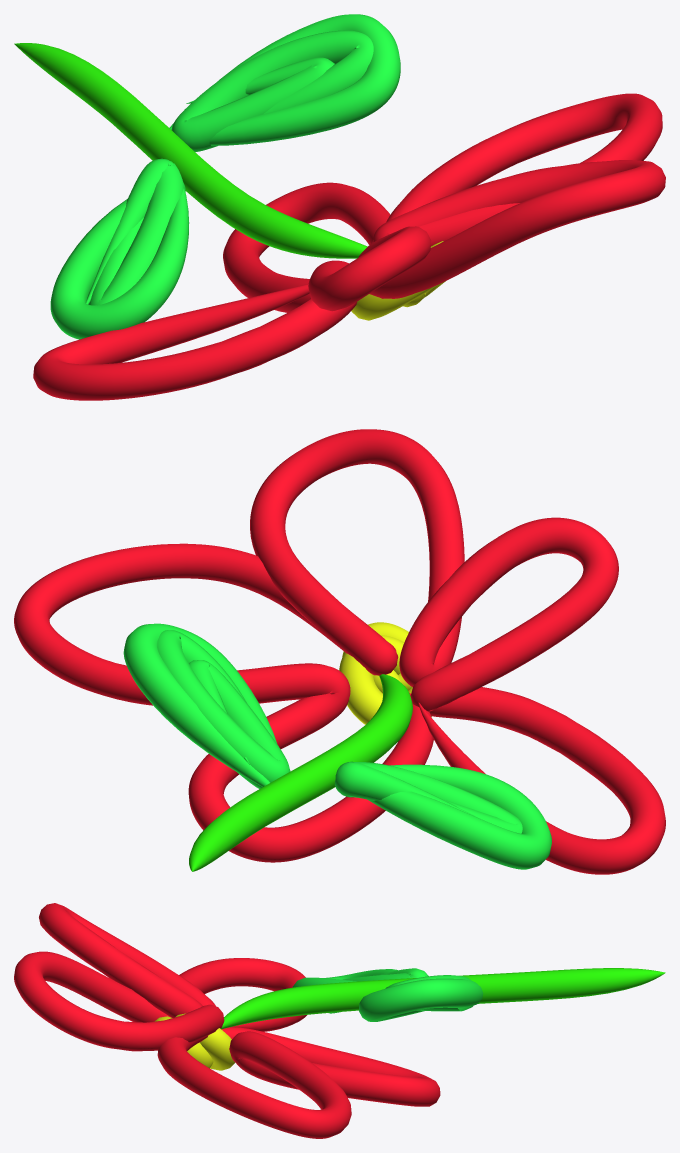
The model's file is flower.obj.
The picture shows the model from 3 angles, top to bottom: view 1: azimuth 30°, elevation 25°; view 2: azimuth 150°, elevation 25°; view 3: azimuth 270°, elevation 25°; orthographic projection. The views are drawn at different scales.
Parts seen in each view (by area): view 1: s.0010, s.0008, s.0013, s.0012, s.0011, s.0014, s.0009; view 2: s.0010, s.0008, s.0012, s.0013, s.0011, s.0014, s.0009; view 3: s.0010, s.0008, s.0011, s.0009, s.0012, s.0014, s.0013.
Part boxes in pixels (left/top/right/bottom): s.0010: left=33, top=93, right=665, bottom=400; s.0008: left=14, top=43, right=367, bottom=258; s.0013: left=171, top=30, right=373, bottom=152; s.0012: left=50, top=188, right=189, bottom=339; s.0011: left=169, top=14, right=400, bottom=145; s.0014: left=85, top=158, right=185, bottom=305; s.0009: left=351, top=241, right=445, bottom=320; s.0010: left=14, top=429, right=665, bottom=874; s.0008: left=189, top=674, right=412, bottom=871; s.0012: left=367, top=764, right=551, bottom=869; s.0013: left=157, top=630, right=290, bottom=788; s.0011: left=123, top=623, right=277, bottom=786; s.0014: left=335, top=761, right=522, bottom=833; s.0009: left=339, top=622, right=431, bottom=724; s.0010: left=14, top=903, right=440, bottom=1138; s.0008: left=221, top=968, right=665, bottom=1029; s.0011: left=359, top=978, right=483, bottom=1021; s.0009: left=154, top=1013, right=234, bottom=1070; s.0012: left=292, top=969, right=397, bottom=987; s.0014: left=329, top=968, right=428, bottom=1013; s.0013: left=385, top=975, right=472, bottom=1011.
Size of the model in its own units: 26.39 by 9.38 by 29.6.
